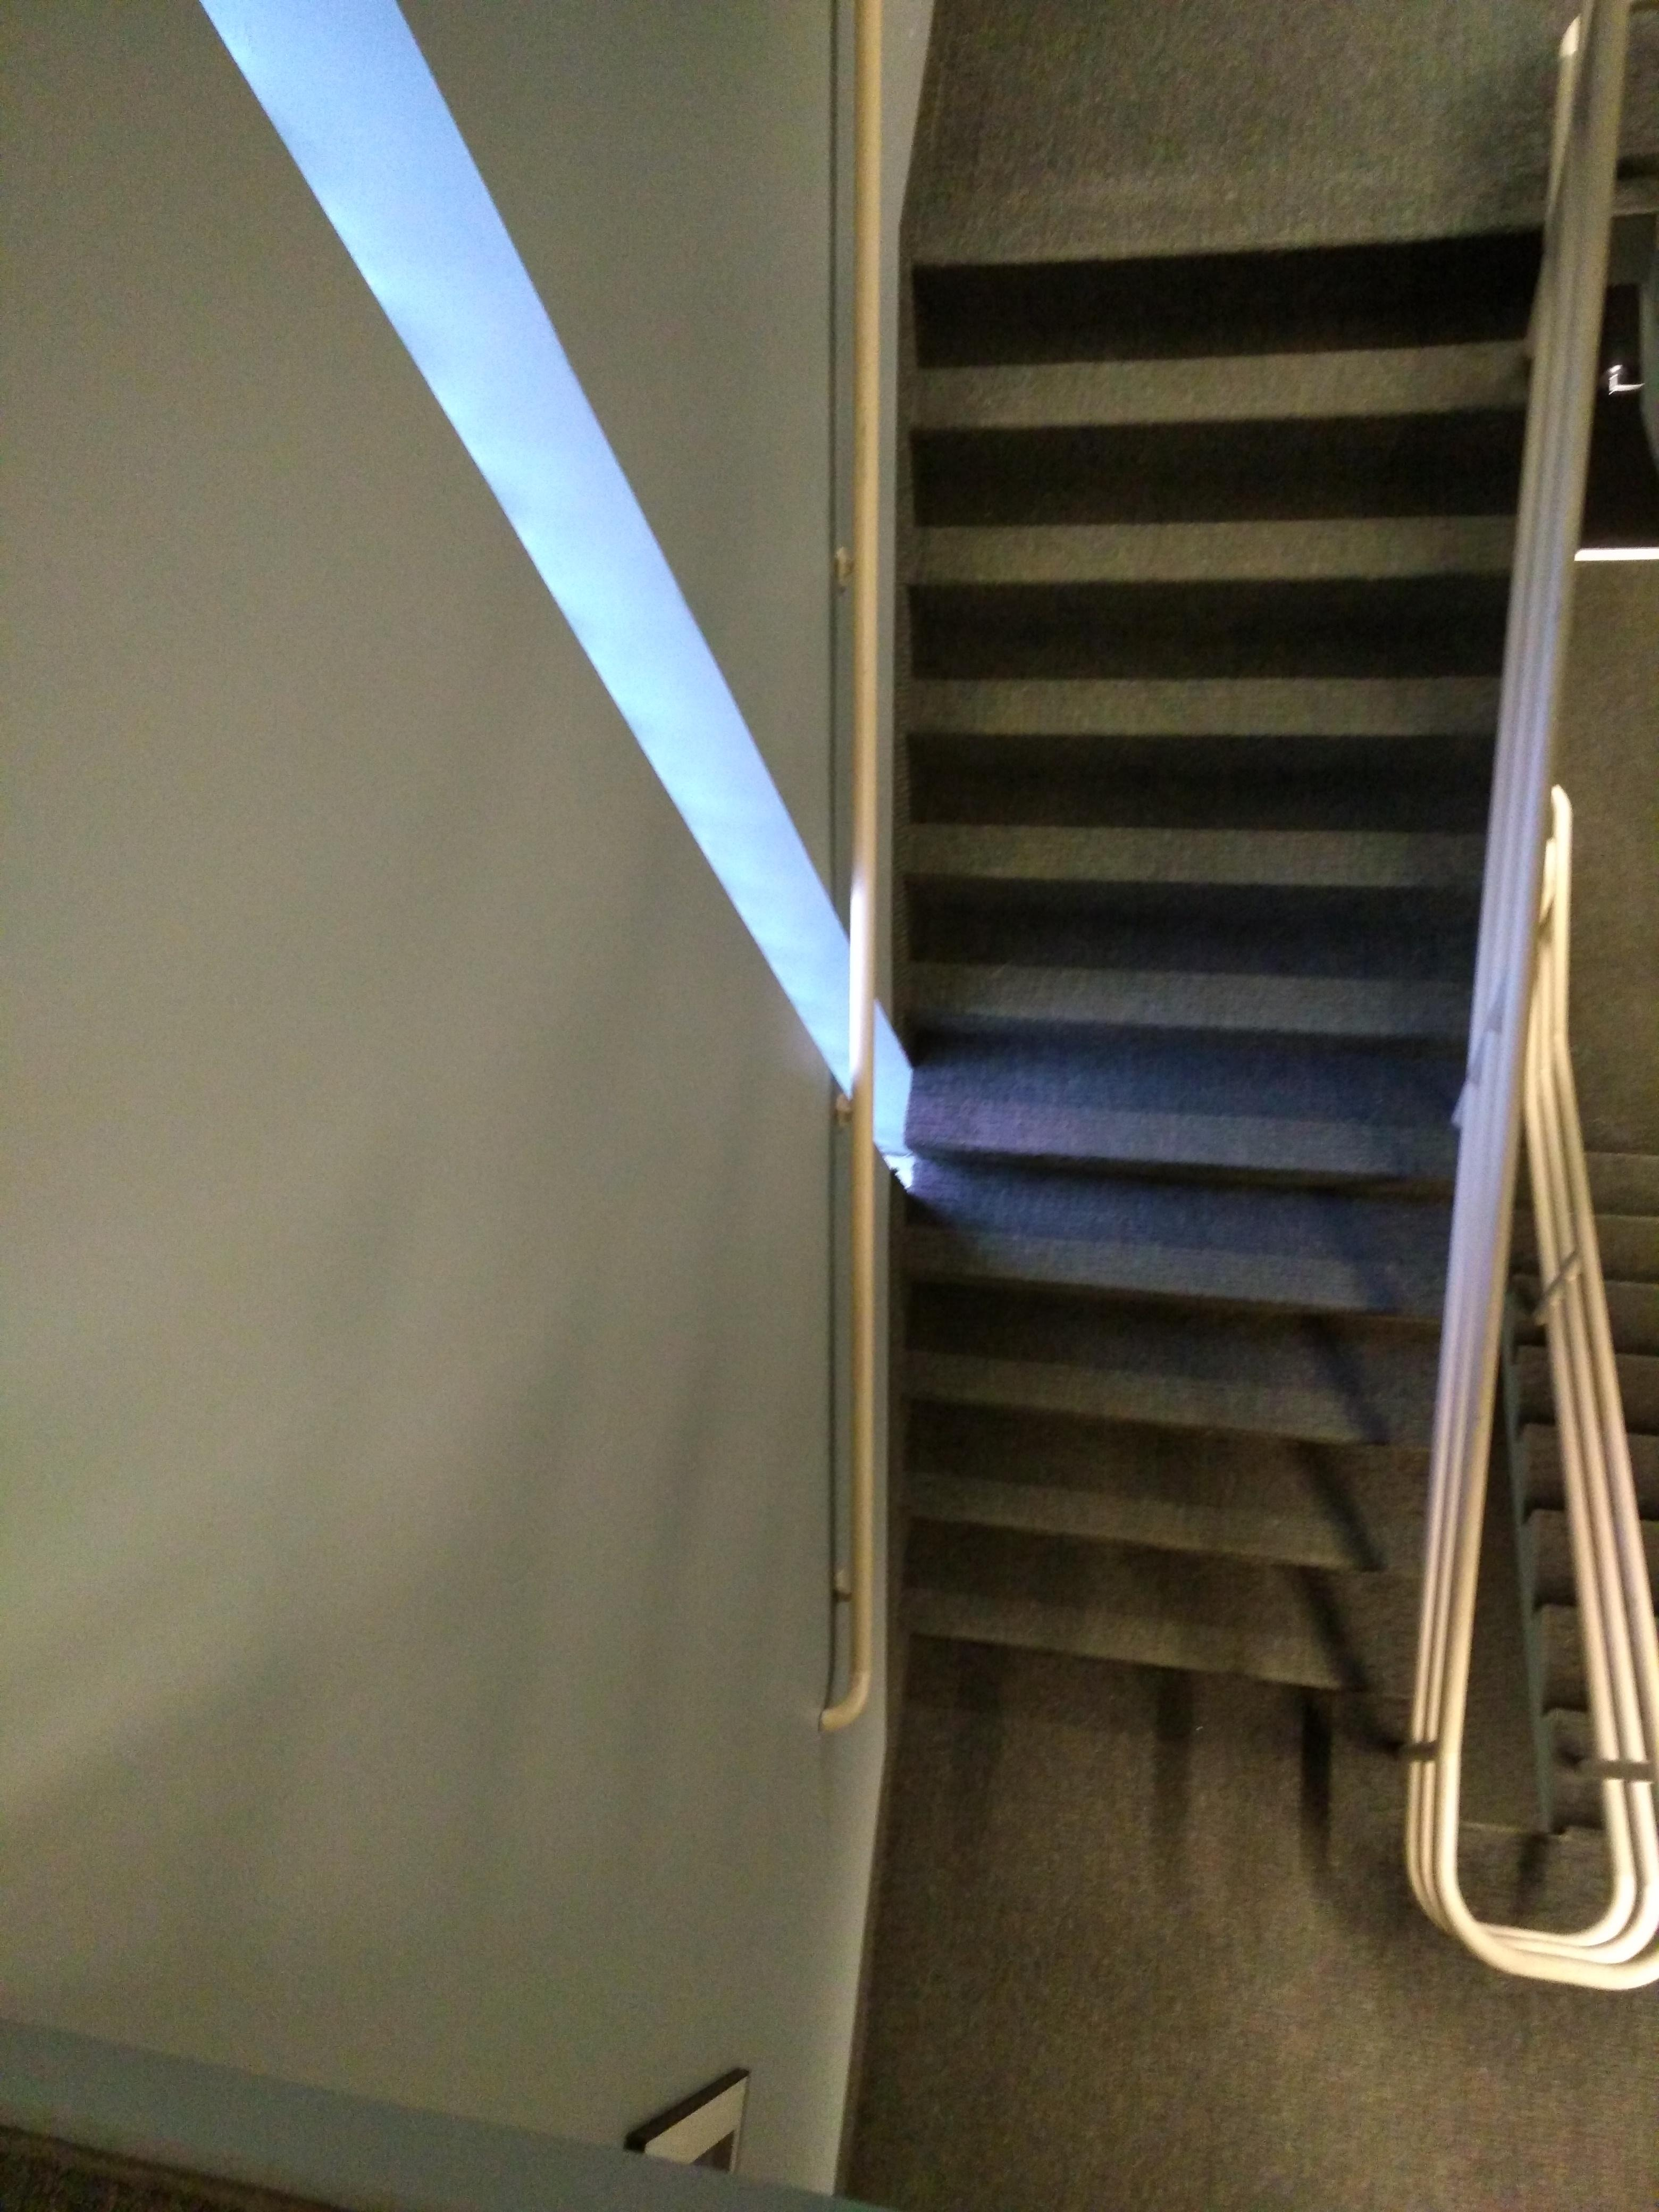stairs_up: (897, 230, 1438, 1742)
